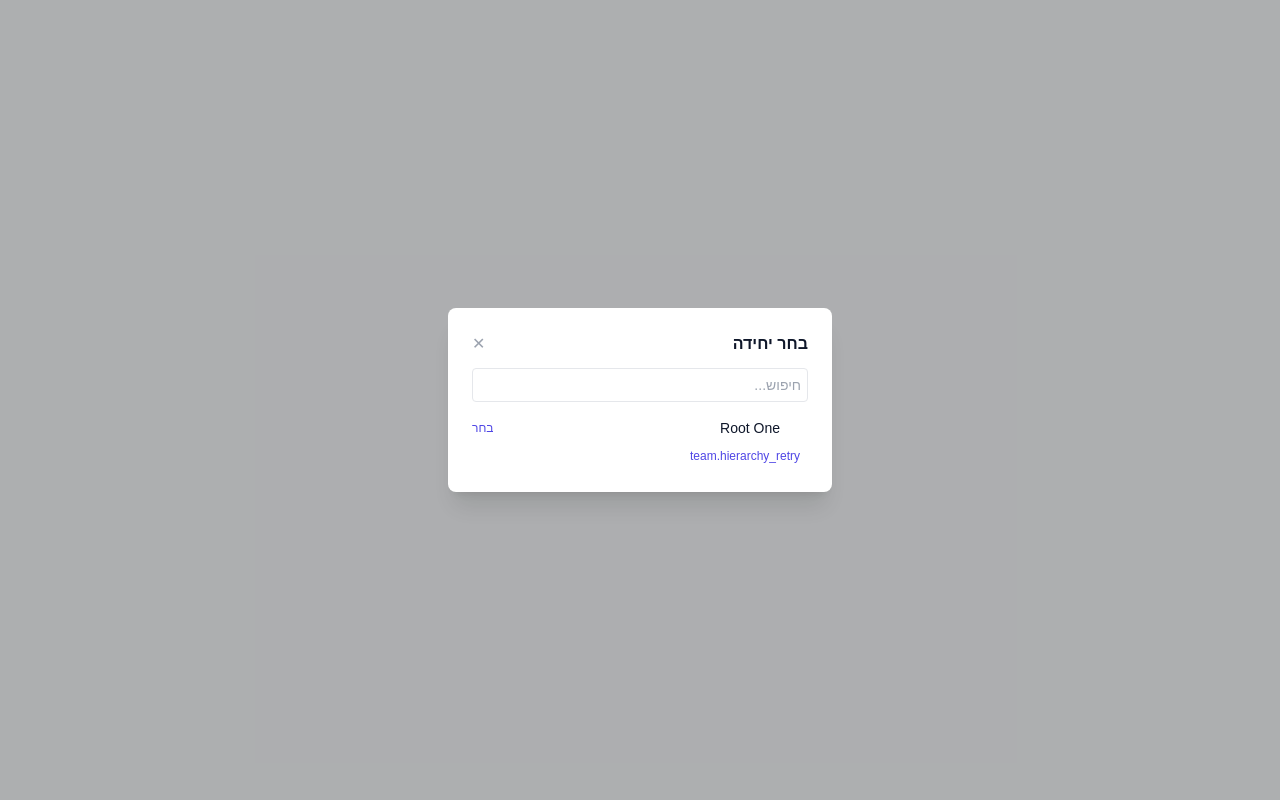
Test: HierarchyNodePickerModal › does not automatically retry a failed page and leaves retry to the user
Check: the text "Root One" is shown, box [720, 418, 780, 438]
Click the button "team.hierarchy_retry" at (745, 456), box [682, 444, 808, 468]
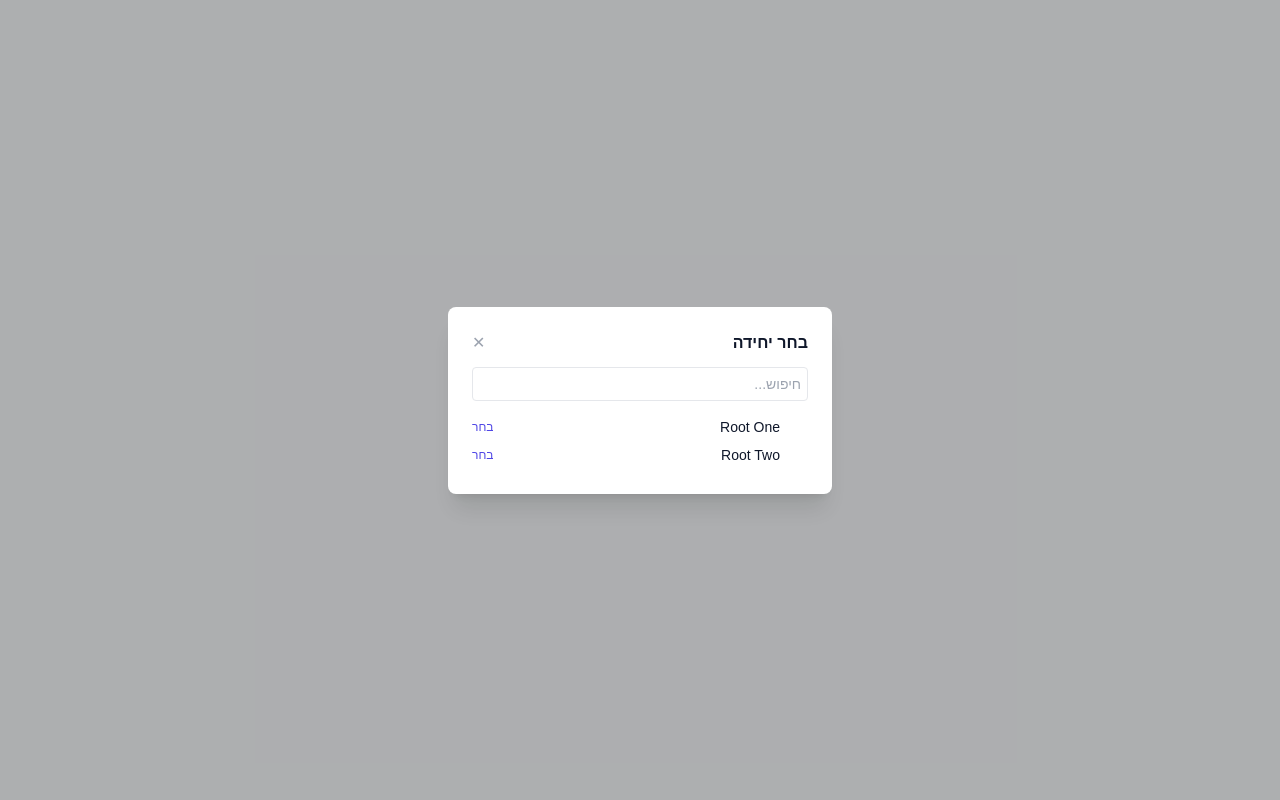
Check: the text "Root Two" is shown, box [721, 444, 780, 464]
